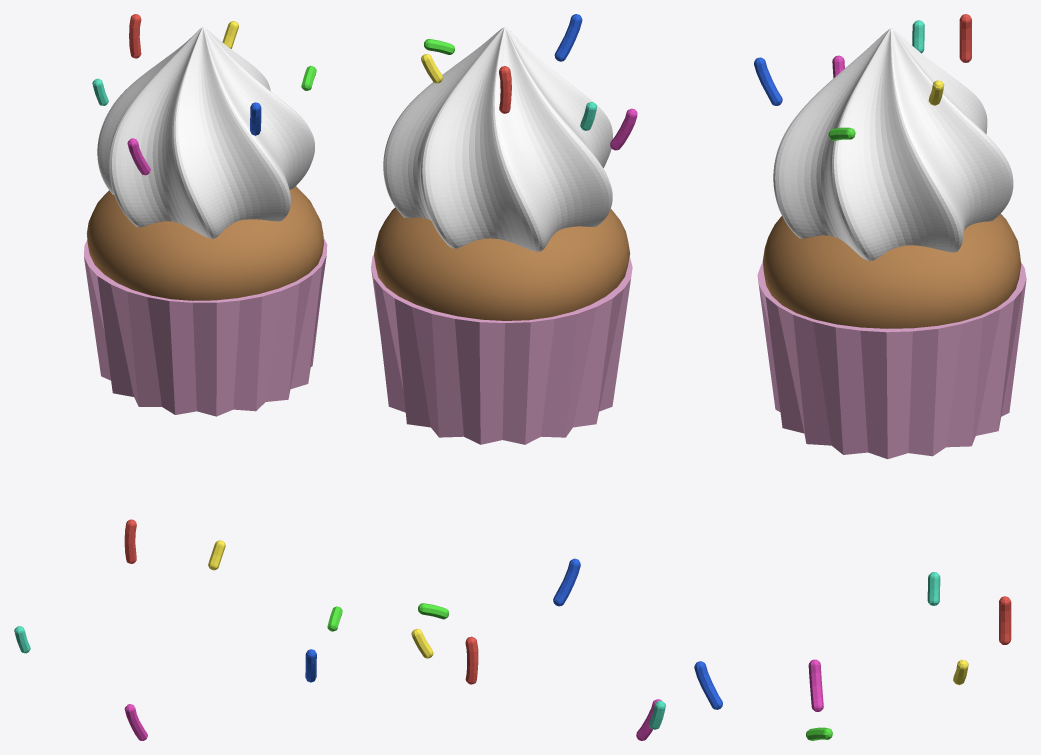
File: Modelado_Muffin_Score_001.glb
3 renders of one model, left to right at view 1: azimuth 30°, elevation 25°; view 2: azimuth 150°, elevation 25°; view 3: azimuth 270°, elevation 25°, orthographic. The views are drawn at different scales.
Parts seen in each view (by area): view 1: Mesh_Cupcake; view 2: Mesh_Cupcake, Mesh_Sprikle_002.006, Mesh_Sprikle_002.001, Mesh_Sprikle_002, Mesh_Sprikle_002.004, Mesh_Sprikle_002.005; view 3: Mesh_Cupcake, Mesh_Sprikle_002.002, Mesh_Sprikle_002.006, Mesh_Sprikle_002.001, Mesh_Sprikle_002.004, Mesh_Sprikle_002.
Part boxes in pixels (x1,y1,x2,y2): Mesh_Cupcake: (84,27,327,416); Mesh_Cupcake: (371,27,632,444); Mesh_Sprikle_002.006: (554,14,582,61); Mesh_Sprikle_002.001: (553,558,580,606); Mesh_Sprikle_002: (465,636,478,684); Mesh_Sprikle_002.004: (499,66,511,113); Mesh_Sprikle_002.005: (610,108,637,150); Mesh_Cupcake: (757,28,1026,459); Mesh_Sprikle_002.002: (808,659,823,711); Mesh_Sprikle_002.006: (754,57,782,105); Mesh_Sprikle_002.001: (694,661,722,709); Mesh_Sprikle_002.004: (959,14,971,62); Mesh_Sprikle_002: (999,596,1011,644).
Size of the model in its own units: 3.02 by 6.91 by 2.84.
